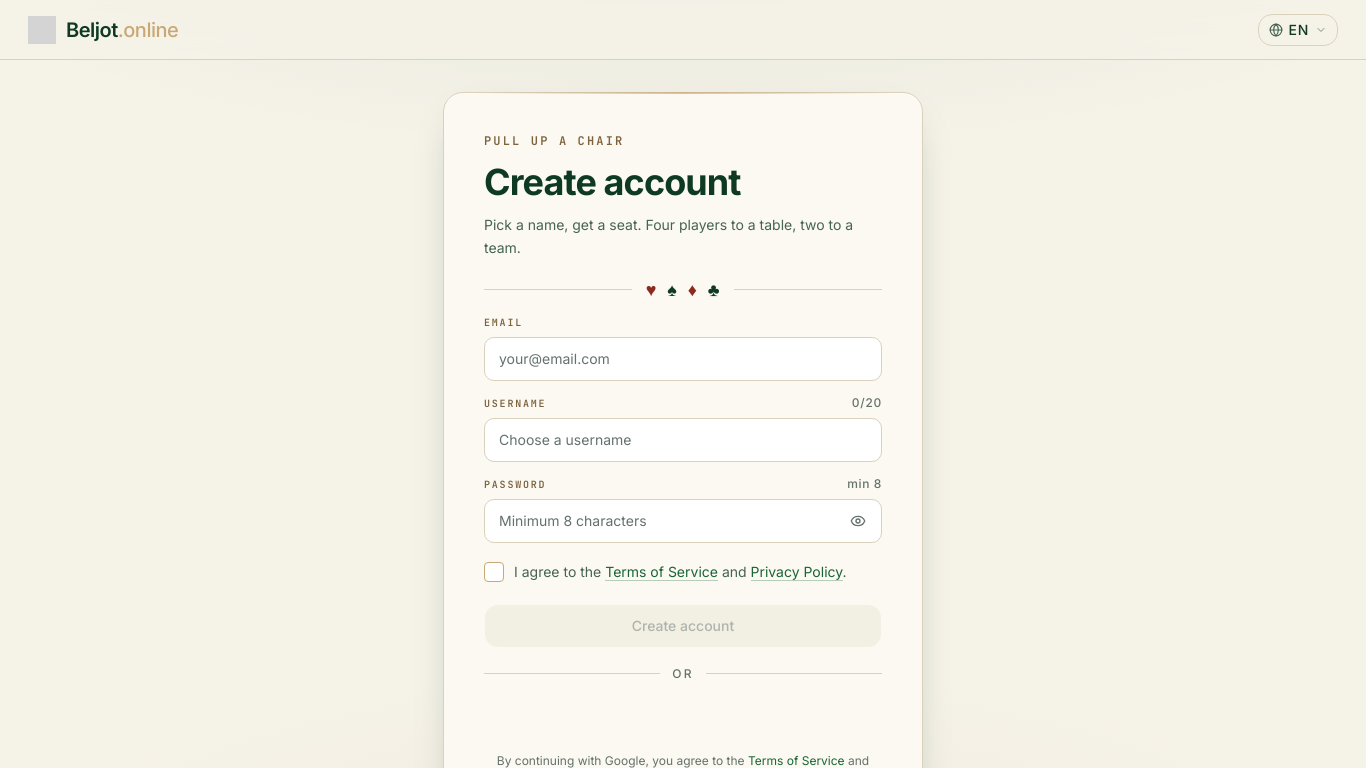
it: RegisterPage › clears the consent error once the checkbox is checked
Type "test@example.com" into the field with test id "email-input" at (683, 359), box [484,337,882,381]
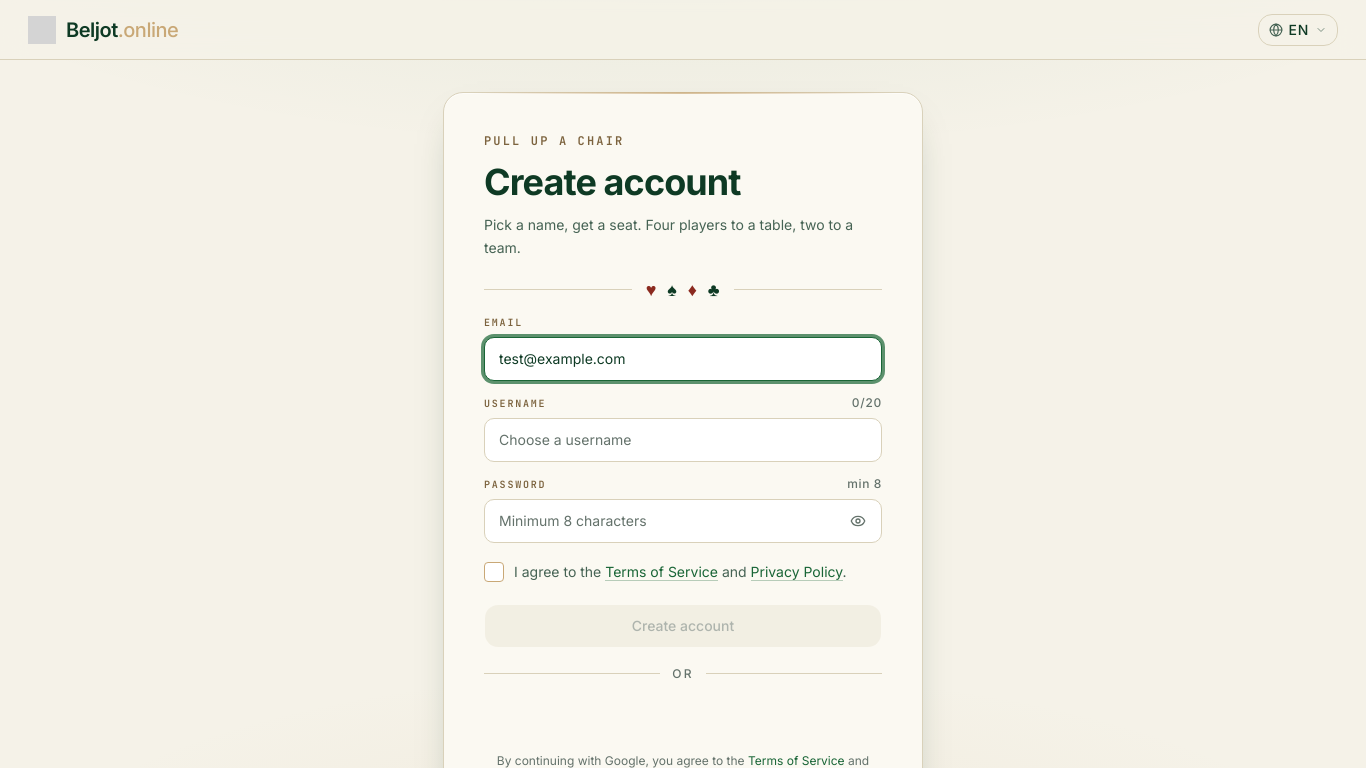
Type "testuser" into the field with test id "username-input" at (683, 440), box [484,418,882,462]
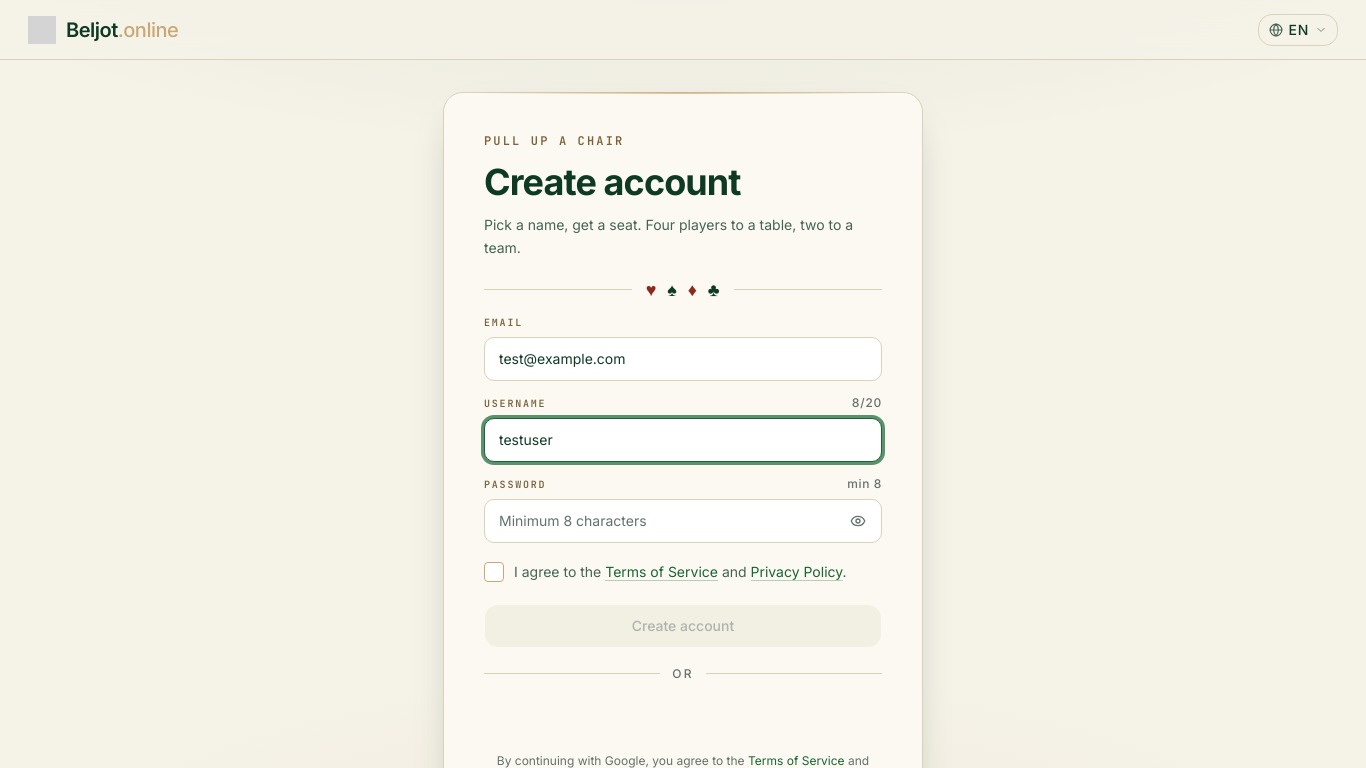
Type "password123" into the password field with test id "password-input" at (683, 521), box [484,499,882,543]
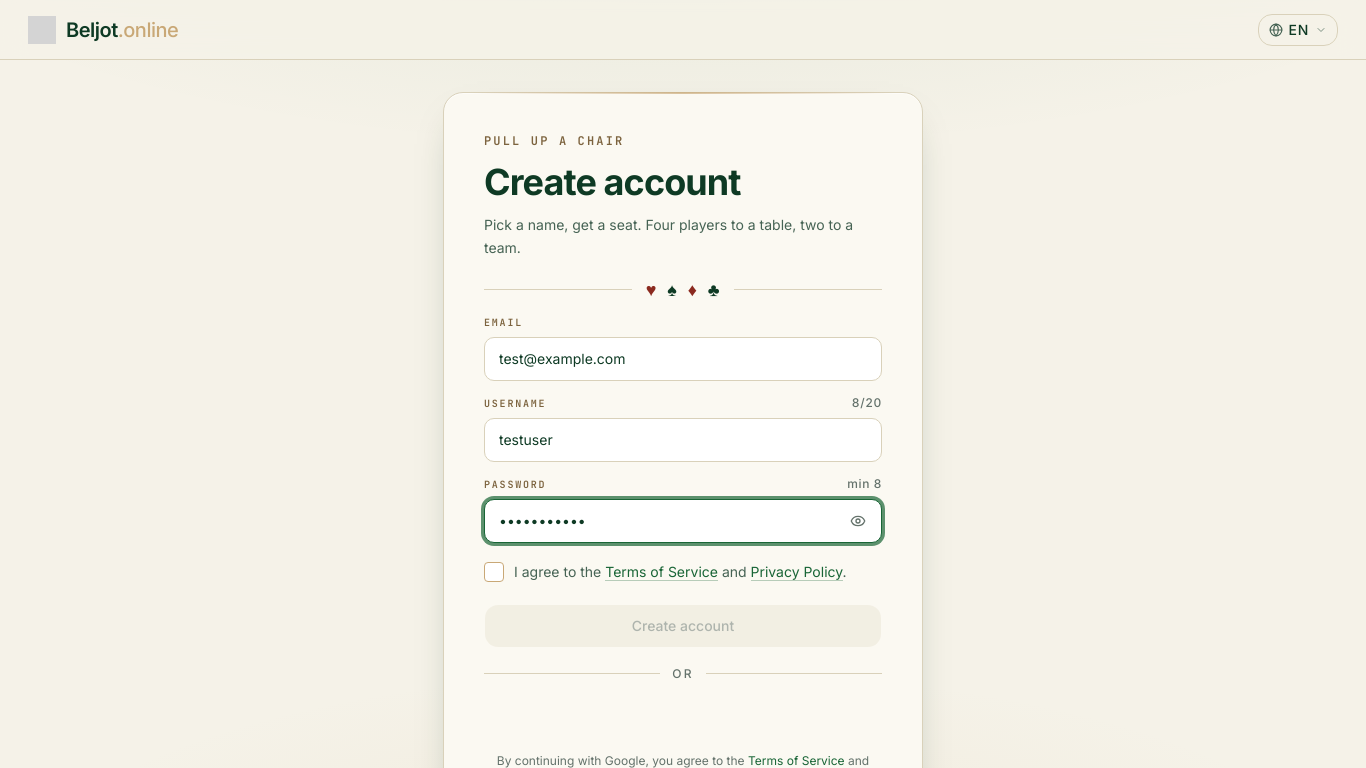
Submit the form with test id "register-form", box [484,315,882,648]
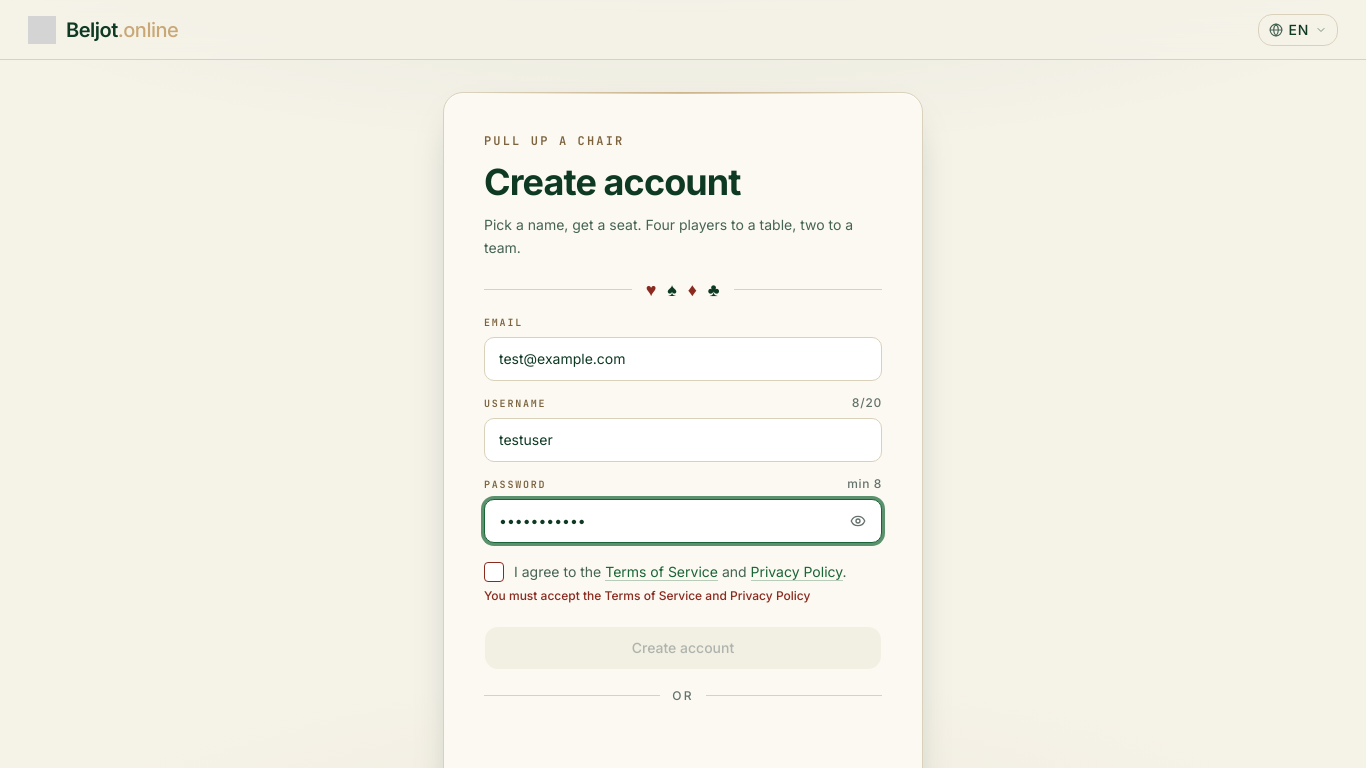
Now the text "You must accept the Terms of Service and Privacy Policy" is shown, box [484,588,810,603]
Click the checkbox with test id "consent-checkbox" at (683, 572), box [484,561,882,582]
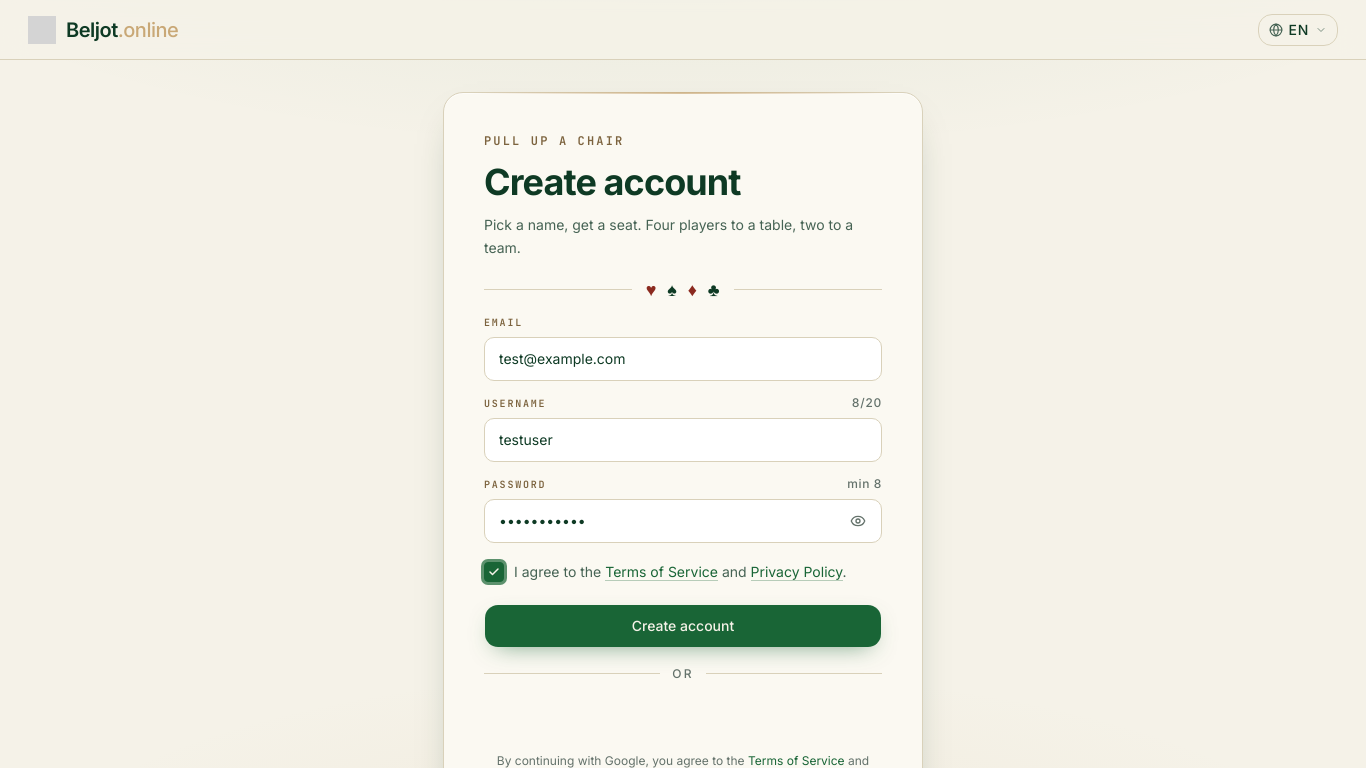
Now the text with test id "consent-error" is gone
